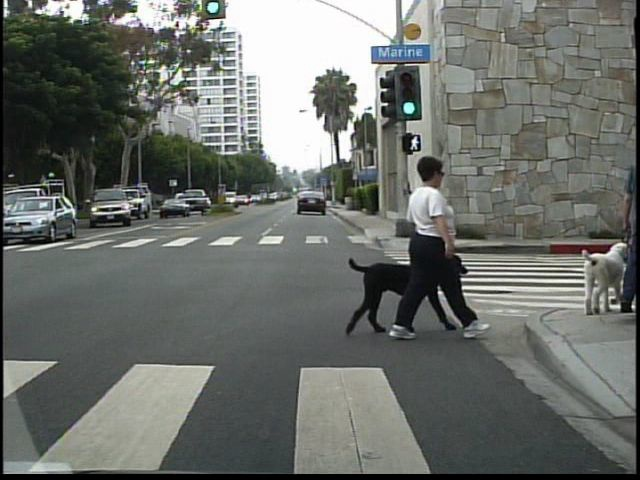person: (394, 144, 467, 346)
